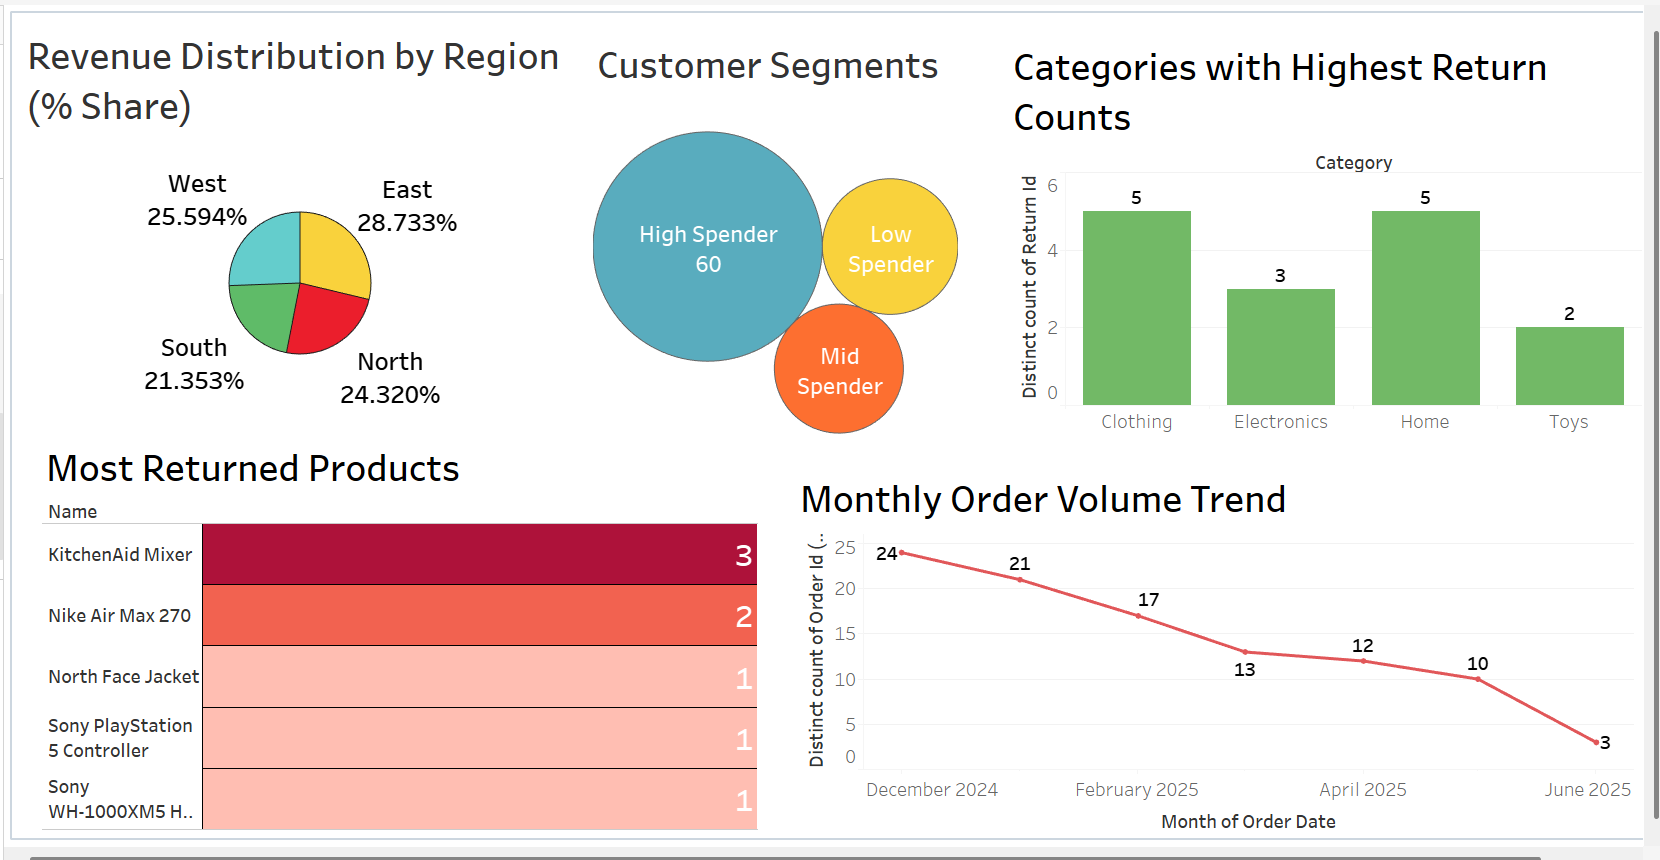

The page's visual inventory and layout, read from the dashboard file:
{"tool":"tableau","page":{"name":"Dashboard 2","canvas":[1000,1000],"units":"permille","ordinal":1},"visuals":[{"type":"worksheet","title":"Sheet 2","mark":"Pie","box":[11.1,25,322.1,474.4]},{"type":"worksheet","title":"Sheet 4","mark":"Circle","box":[342.4,35.7,294.2,511.3]},{"type":"worksheet","title":"Sheet 6","mark":"Automatic","rows":["return_id"],"cols":["category"],"box":[584.3,38.1,368,472.1]},{"type":"worksheet","title":"Sheet 5","mark":"Square","rows":["name"],"box":[22.1,514.9,416.3,466.1]},{"type":"worksheet","title":"Sheet 9","mark":"Automatic","rows":["order_id (orders_realistic.csv)"],"cols":["order_date"],"box":[460.5,551.7,487.2,441.1]}]}

Visuals, with their boxes on the dashboard's canvas, which has no fixed pixel size, in thousandths of its width and height (x1, y1, x2, y2). These are canvas units, not pixel positions in the 1660x860 screenshot, which may show the page scaled, cropped or inside an application window:
"Sheet 2" worksheet (Pie marks): l=11, t=25, r=333, b=499
"Sheet 4" worksheet (Circle marks): l=342, t=36, r=637, b=547
"Sheet 6" worksheet: l=584, t=38, r=952, b=510
"Sheet 5" worksheet (Square marks): l=22, t=515, r=438, b=981
"Sheet 9" worksheet: l=460, t=552, r=948, b=993
